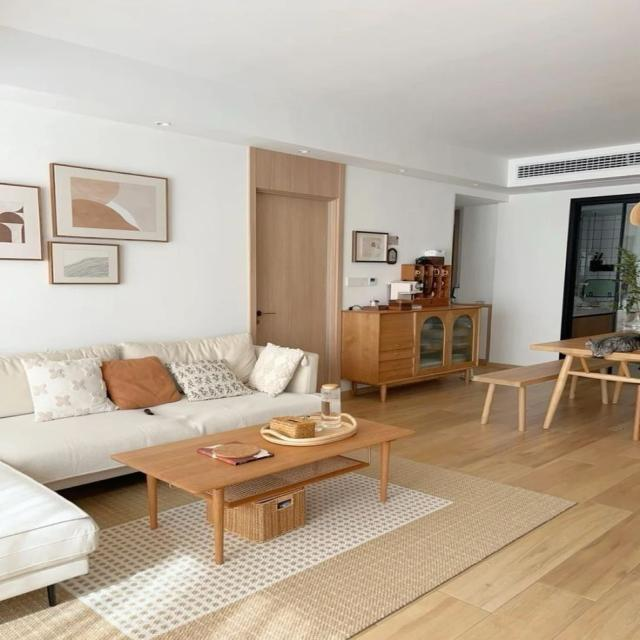obstacle: (0, 331, 326, 492), (109, 411, 415, 565), (340, 303, 490, 402), (530, 330, 639, 440)
